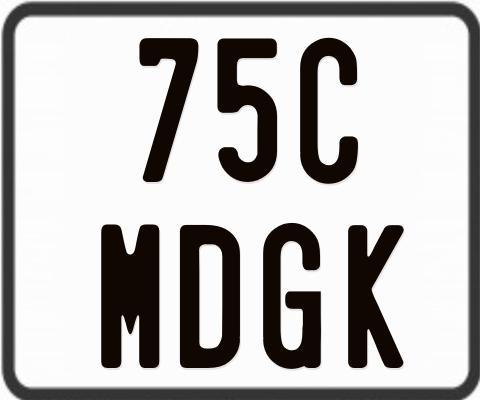5: (217, 38, 277, 186)
7: (138, 35, 203, 181)
C: (300, 38, 361, 187)
D: (177, 224, 240, 369)
G: (260, 223, 318, 369)
K: (345, 222, 406, 369)
M: (98, 221, 158, 366)
